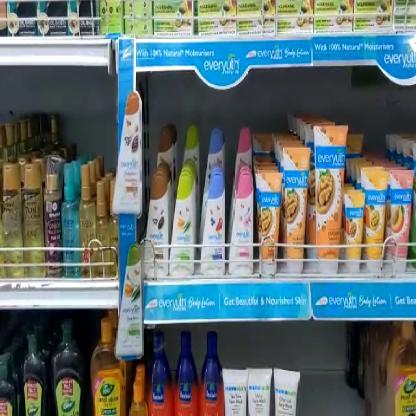Everyuth Naturals Body Lotion Nourishing Cocoa 200ml: (146, 170, 170, 278)
Everyuth Naturals Body Lotion Rejuvenating Flora 200ml: (230, 172, 253, 274)
Everyuth Naturals Body Lotion Soothing Citrus 200ml: (172, 171, 194, 278)
Everyuth Naturals Body Lotion Sun Care Berries SPF 15 200ml: (201, 172, 224, 276)
